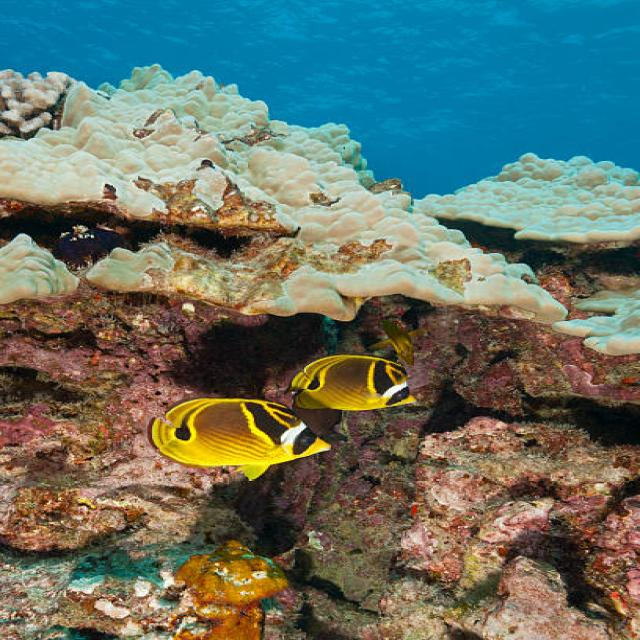ButterflyFish: (154, 400, 328, 483), (303, 353, 422, 415)
